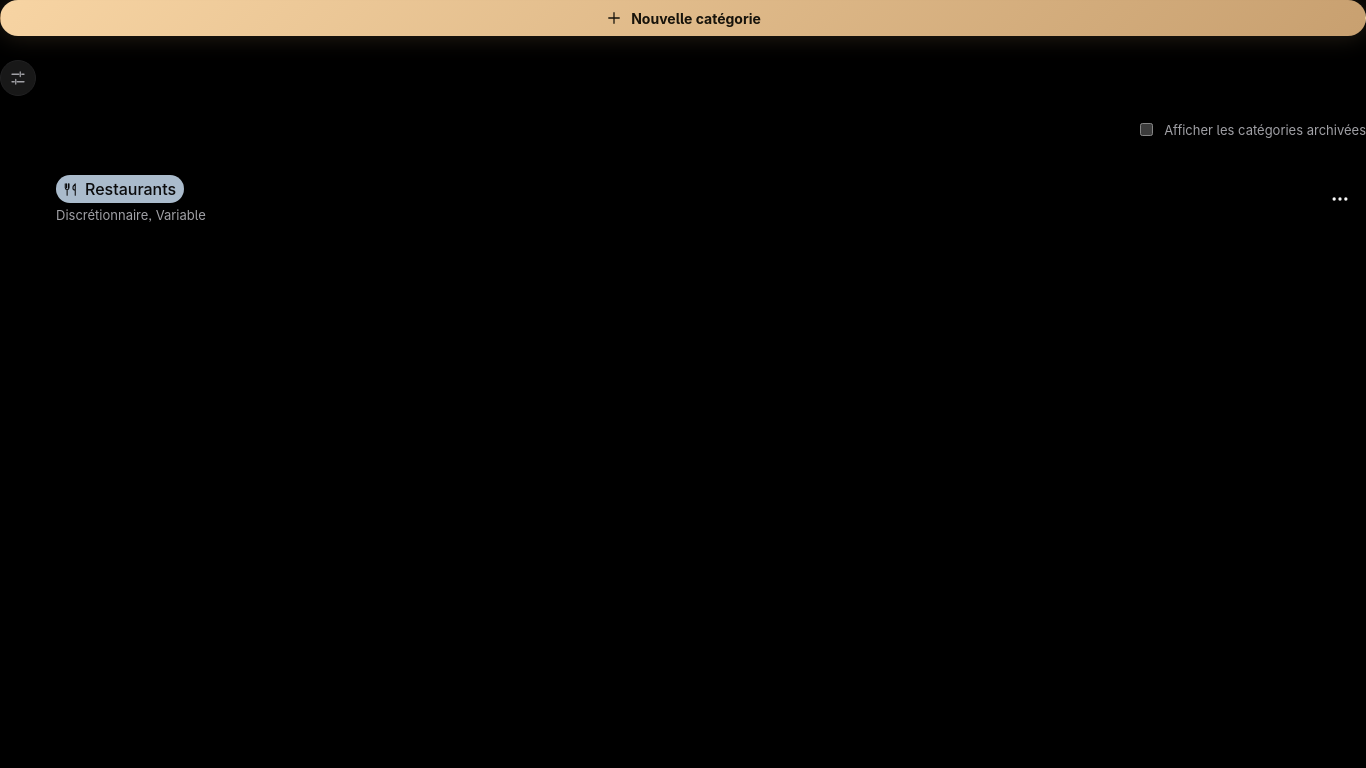
it: CategoryPage › archives a category only after an explicit confirmation of its impact
Check: the text "Restaurants" is shown, box [85,179,176,199]
What coordinates should you click on to do the following:
click the button named "Actions de la catégorie « Restaurants »"
I would click on:
 (1340, 199)
Its box is [1322,181,1358,217].
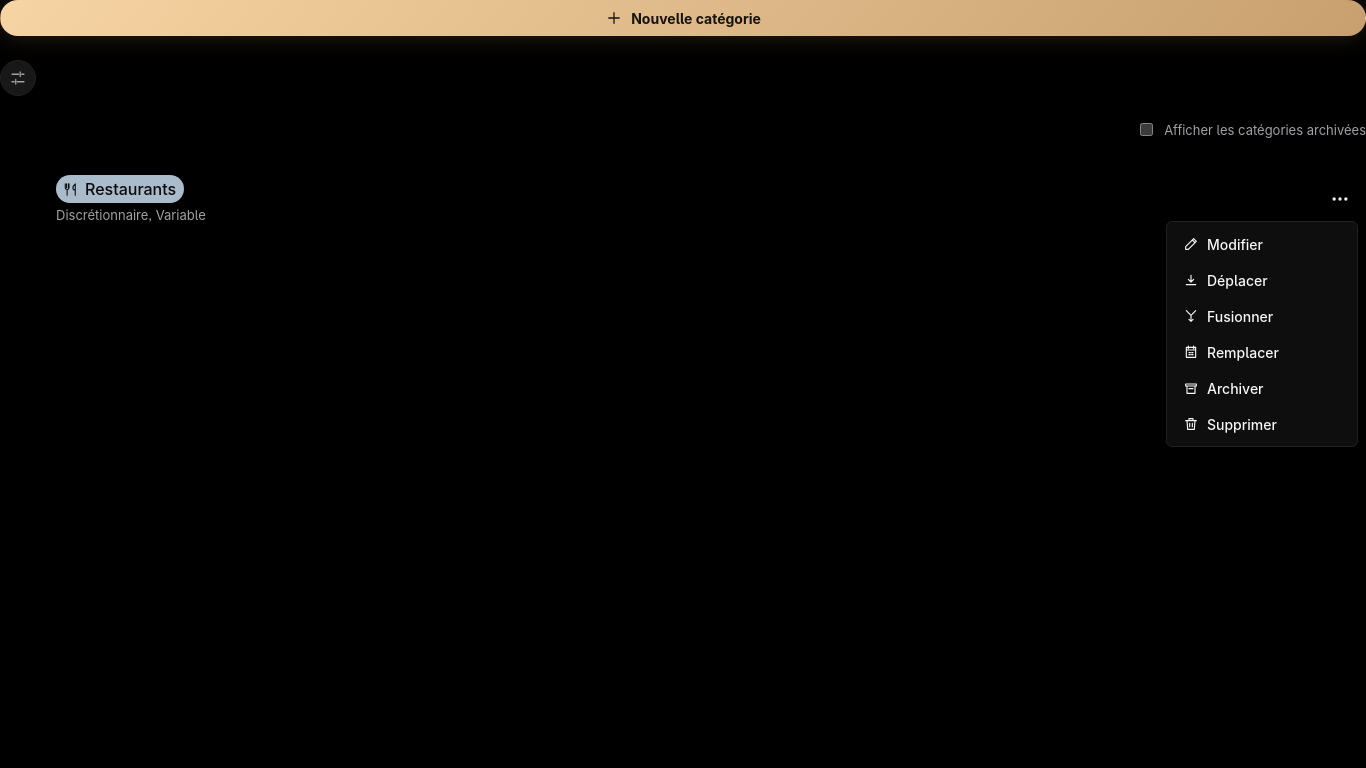
What coordinates should you click on to do the following:
click the button with aria-label "Archiver la catégorie « Restaurants »"
I would click on:
 (1262, 388)
Its box is [1171,370,1353,406].
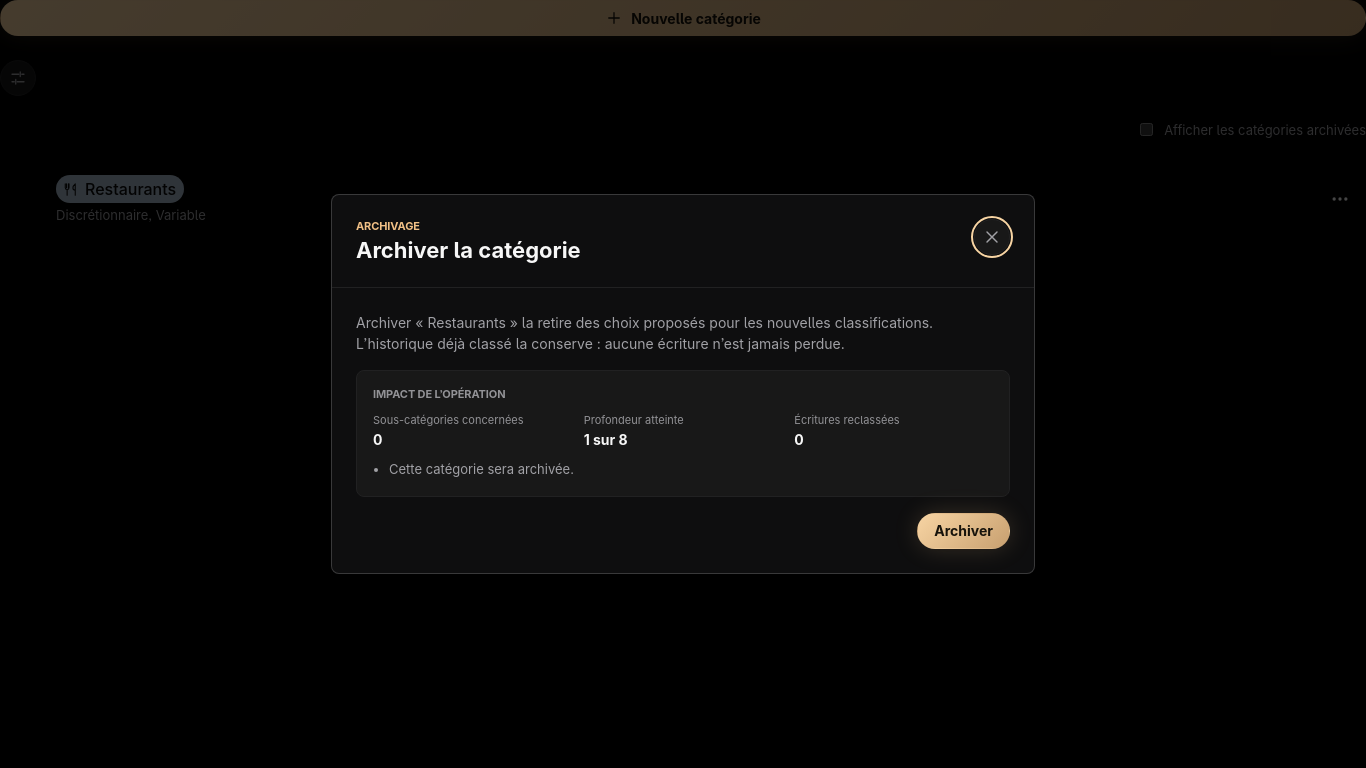
Check: the button "Archiver" is enabled
What coordinates should you click on to do the following:
click the button "Archiver"
I would click on:
 (964, 531)
Its box is [917,513,1010,549].
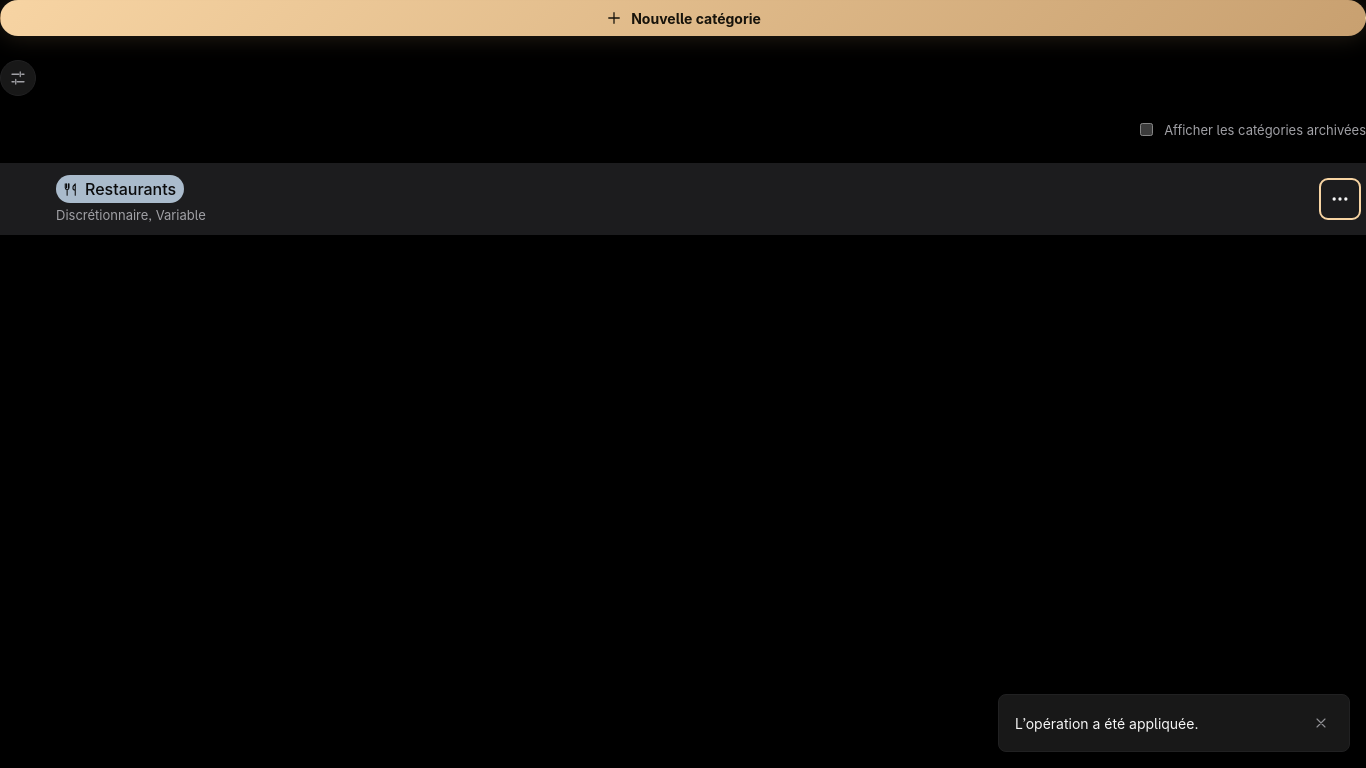
Check: the text "L’opération a été appliquée." is shown, box [1015,714,1198,732]
